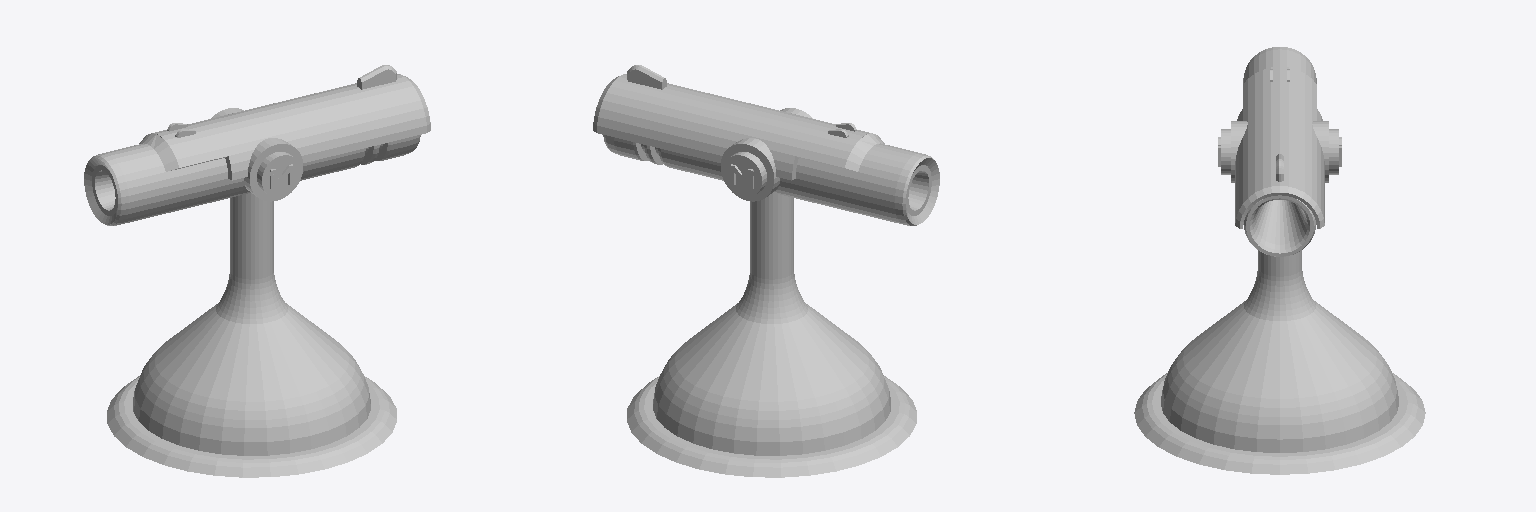
Rendered from missileturretv1.obj.
The picture shows the model from 3 angles: view 1: azimuth 30°, elevation 25°; view 2: azimuth 150°, elevation 25°; view 3: azimuth 270°, elevation 25°; orthographic projection.
Visible parts, largest first — view 1: Cylinder.003, Cylinder.004_Plate, Cylinder.004, Cylinder.001, Cube; view 2: Cylinder.003, Cylinder.004_Plate, Cylinder.004, Cylinder.001, Cube; view 3: Cylinder.003, Cylinder.004_Plate, Cylinder.004, Cylinder.001.
Boxes of the visible parts, box(x1,y1,x2,y2) form: Cylinder.003: box(107, 193, 396, 477); Cylinder.004_Plate: box(139, 74, 430, 180); Cylinder.004: box(84, 135, 420, 225); Cylinder.001: box(211, 108, 302, 201); Cube: box(357, 65, 396, 89); Cylinder.003: box(627, 193, 916, 477); Cylinder.004_Plate: box(593, 74, 884, 180); Cylinder.004: box(603, 135, 939, 225); Cylinder.001: box(721, 108, 812, 201); Cube: box(627, 65, 666, 89); Cylinder.003: box(1134, 250, 1425, 474); Cylinder.004_Plate: box(1235, 67, 1324, 228); Cylinder.004: box(1243, 47, 1316, 256); Cylinder.001: box(1221, 121, 1338, 182).
Size of the model in its own units: 16.88 by 16.59 by 13.76.